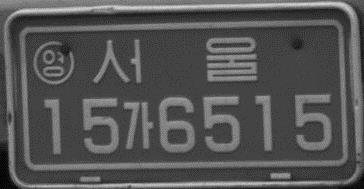1: (39, 95, 68, 157), (250, 93, 277, 152)
5: (200, 94, 243, 154), (292, 92, 335, 151), (81, 96, 120, 156)
6: (158, 95, 196, 154)
가: (120, 99, 155, 150)
서울_D: (90, 34, 260, 85)
영: (31, 38, 76, 85)
